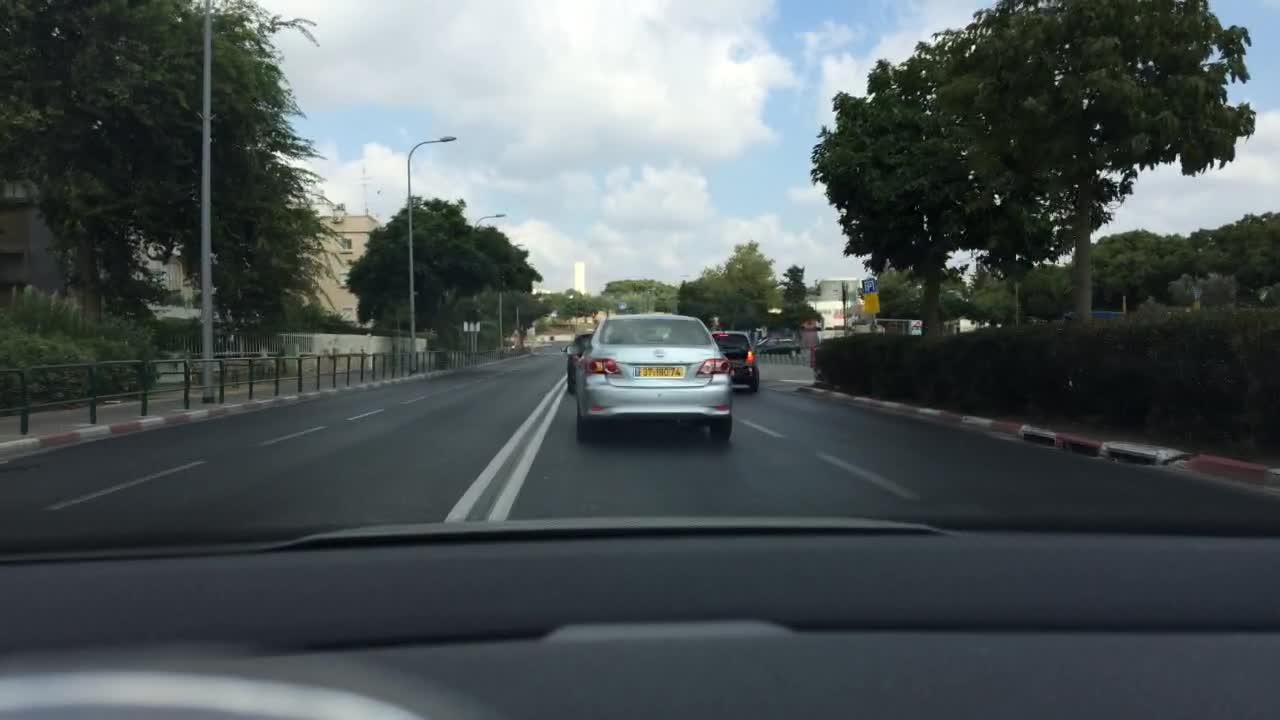car: (573, 310, 734, 448), (707, 326, 758, 394), (561, 333, 592, 395), (753, 334, 801, 359)
traffic sign: (861, 296, 878, 317), (861, 279, 876, 291)
